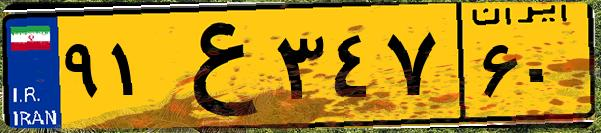0: (525, 38, 570, 115)
1: (110, 28, 158, 98)
3: (270, 28, 330, 110)
4: (330, 28, 385, 110)
6: (475, 38, 525, 113)
7: (385, 28, 445, 110)
9: (57, 26, 110, 100)
ع: (158, 12, 270, 120)
